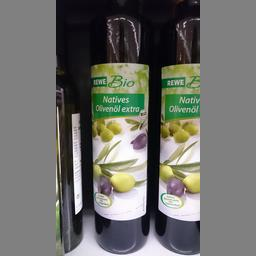oil: (87, 2, 153, 254), (150, 0, 199, 255)
